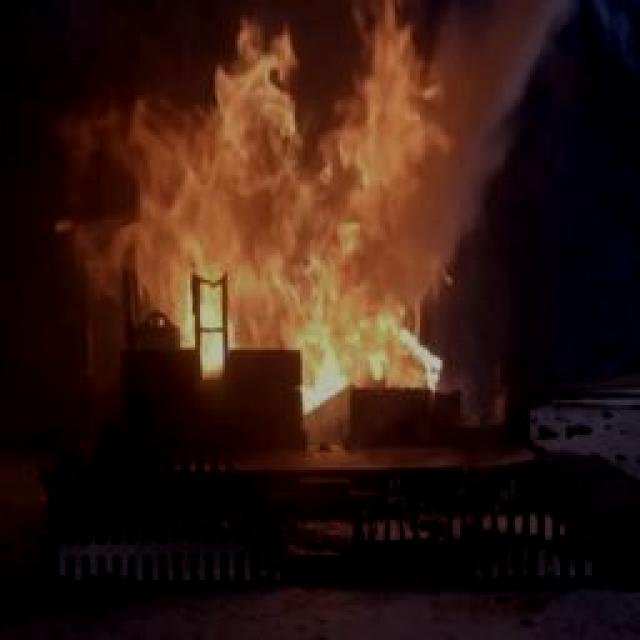fire: (70, 4, 495, 416)
